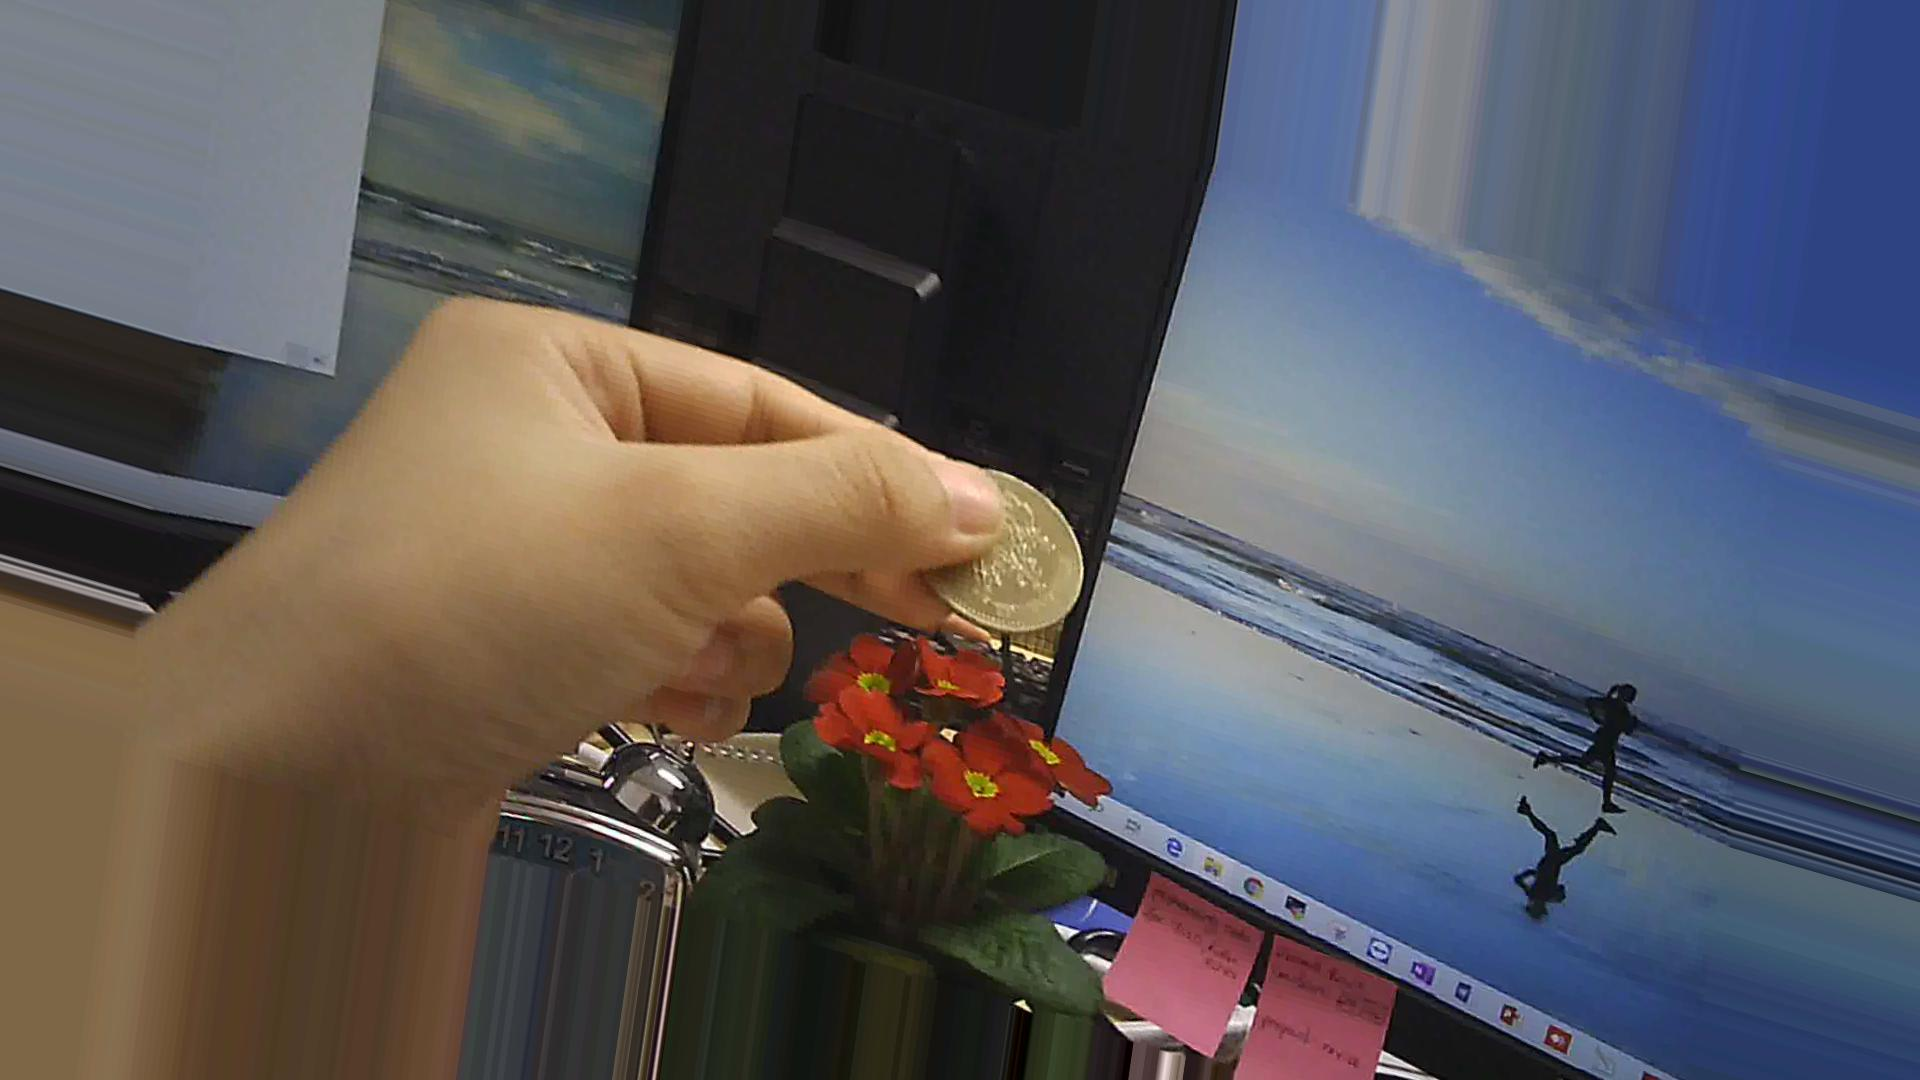500 Yen: (905, 462, 1098, 651)
